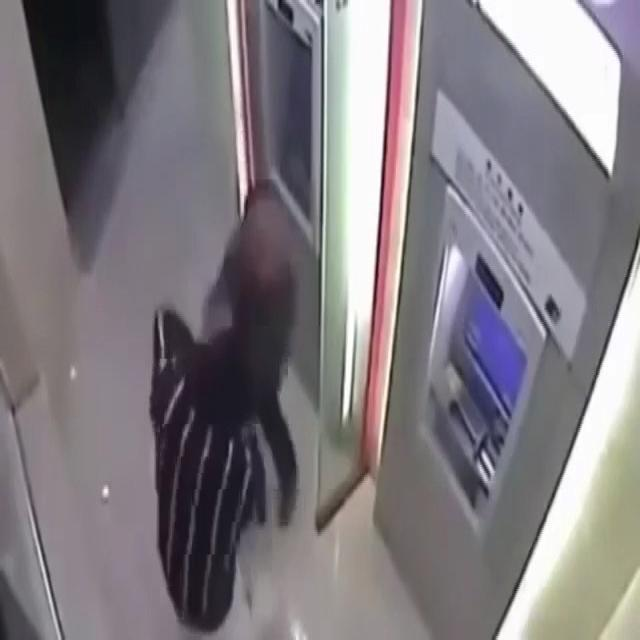fight: (150, 178, 304, 631)
